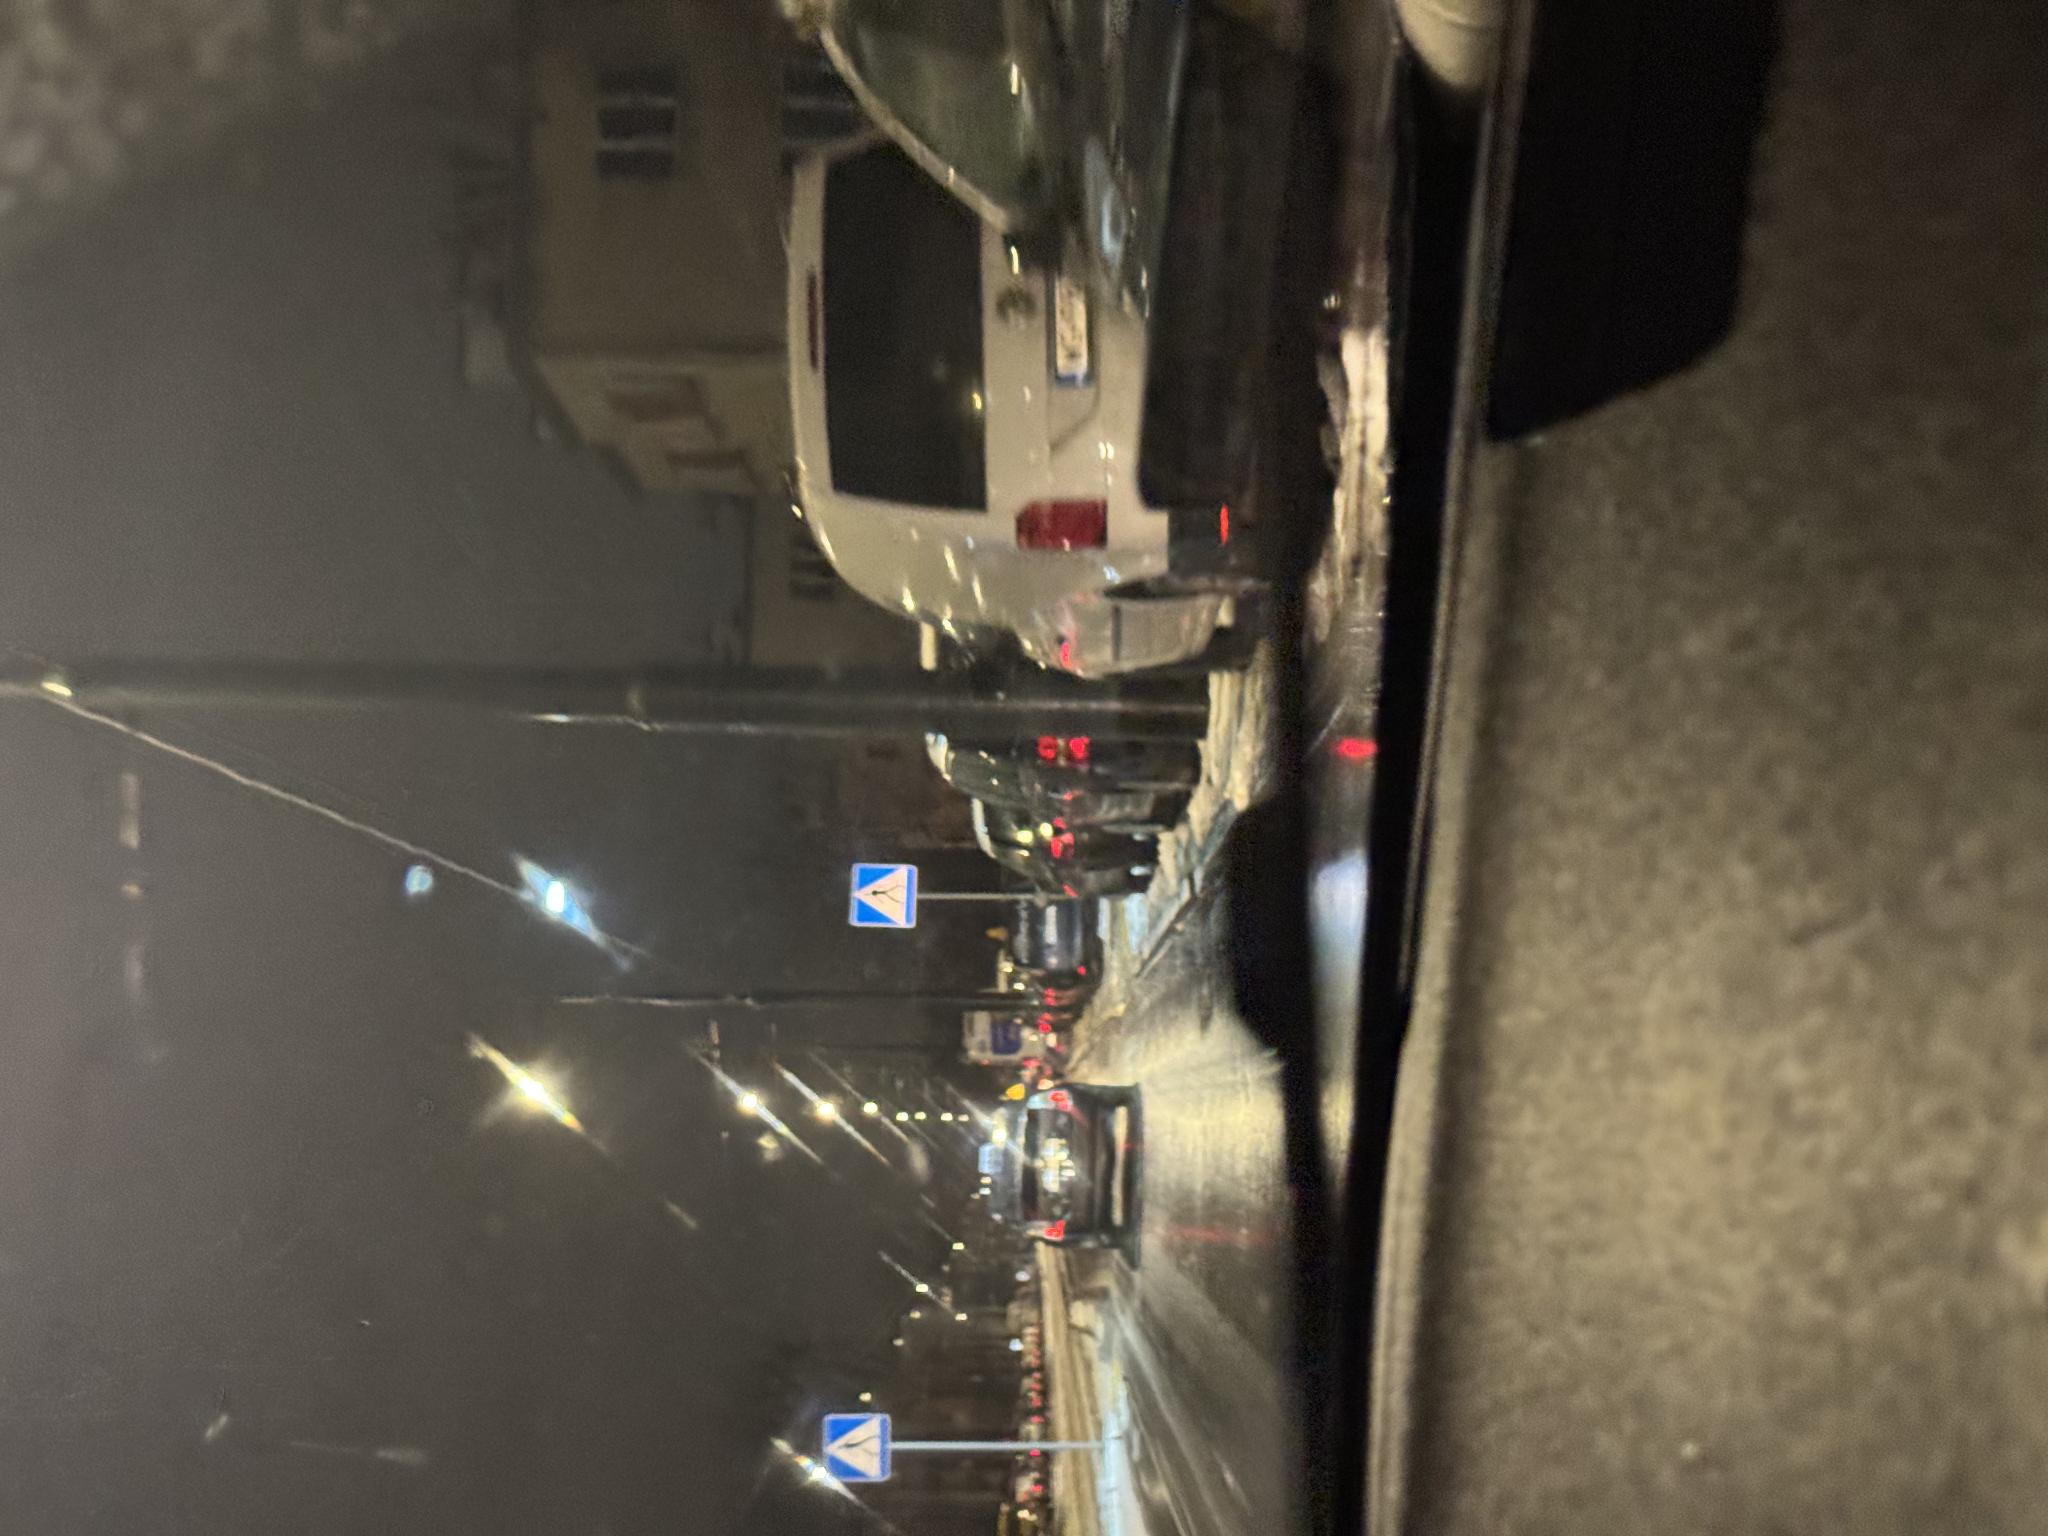information: (55, 821, 126, 891), (608, 849, 677, 918)
